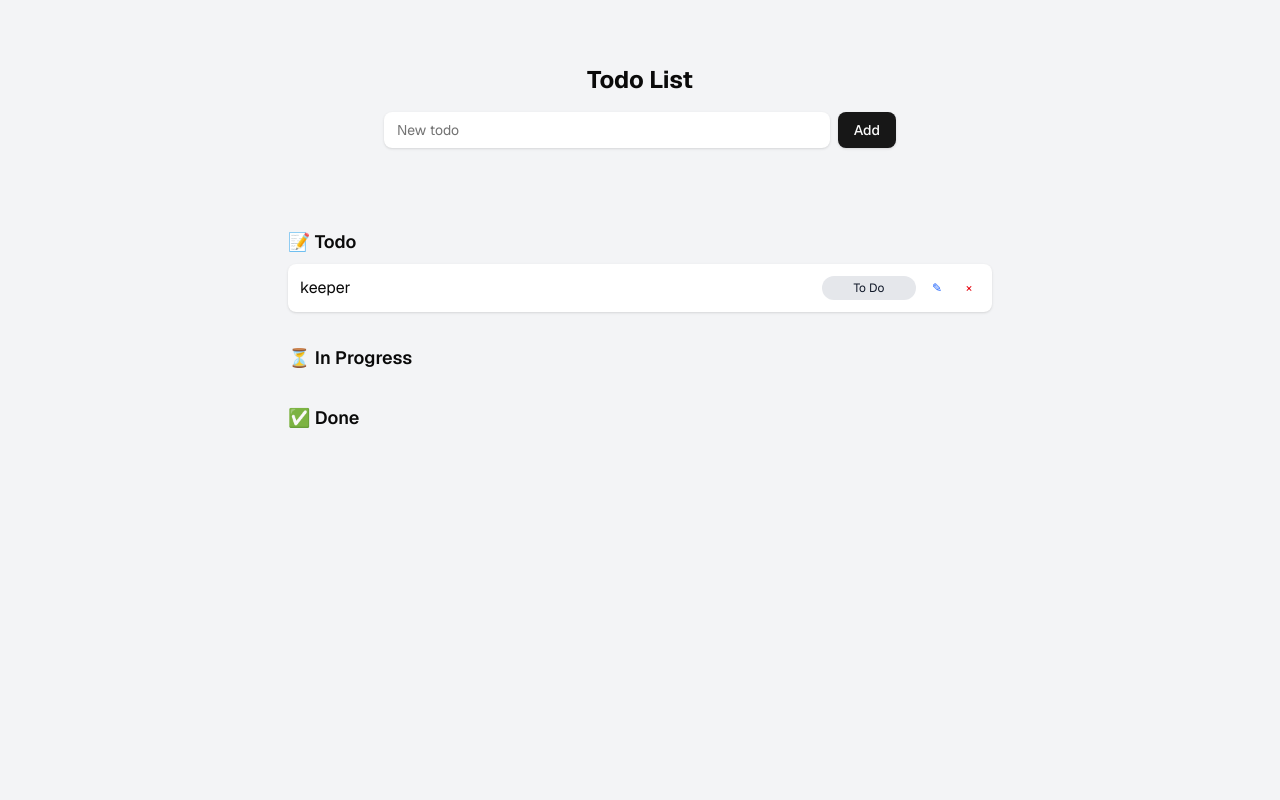
Test: Home page data flow › restores todo on delete failure and shows toast
Check: the text "keeper" is shown, box x1=300 y1=276 x2=350 y2=300
Click the button named "Delete todo": (969,288) x1=958 y1=276 x2=980 y2=300
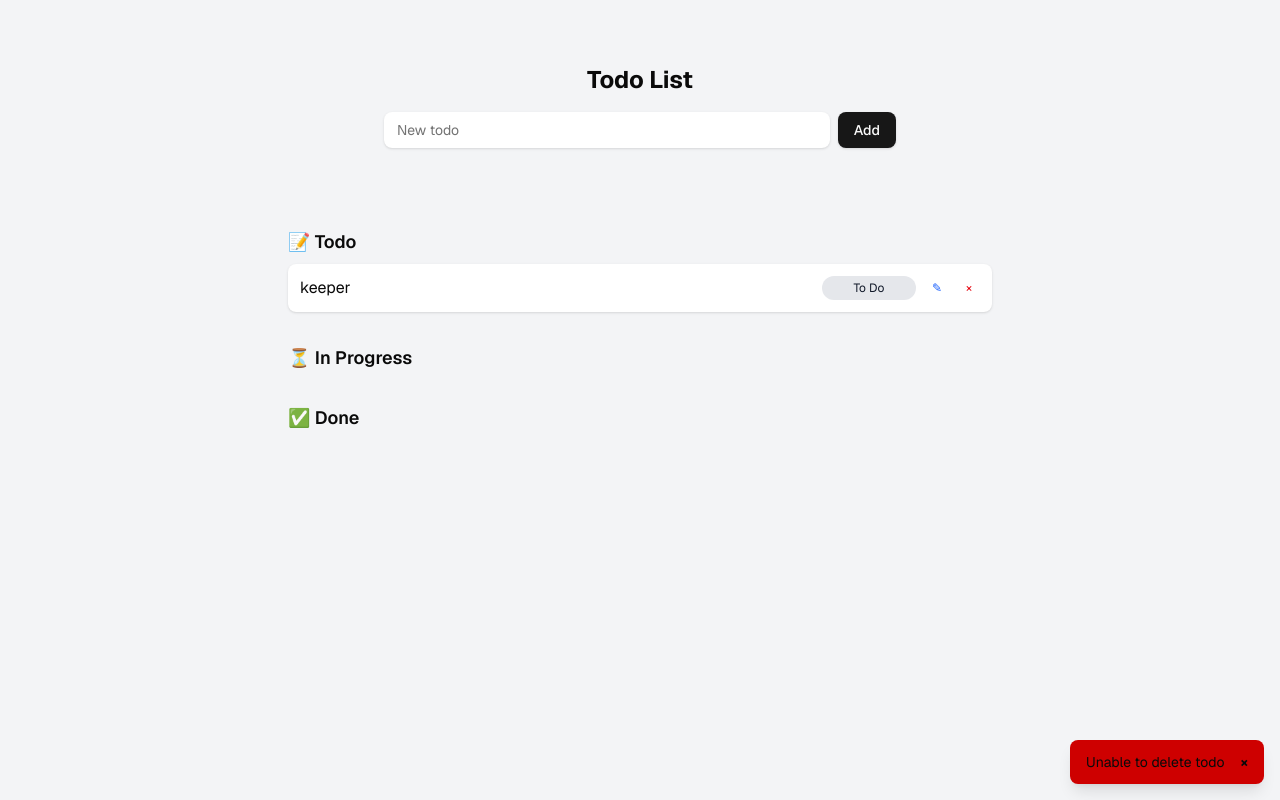
Check: the text "keeper" is shown, box x1=300 y1=276 x2=350 y2=300
Check: the message "Unable to delete todo ×" is shown, box x1=1070 y1=740 x2=1264 y2=784
Check: the text "Unable to delete todo" is shown, box x1=1086 y1=752 x2=1224 y2=772
